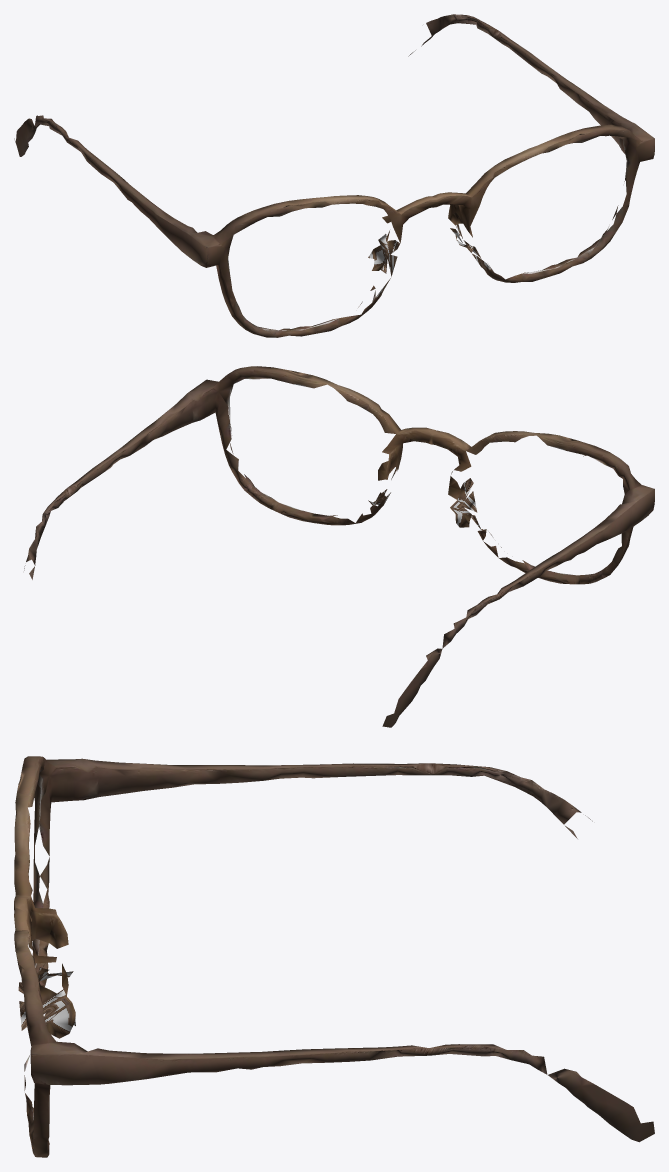
Rendered from head_accessory__0_064-.glb.
3 views of the same model, one above another, from view 1: azimuth 30°, elevation 25°; view 2: azimuth 150°, elevation 25°; view 3: azimuth 270°, elevation 25° (orthographic). The views are drawn at different scales.
Parts seen in each view (by area): view 1: geometry_0_064; view 2: geometry_0_064; view 3: geometry_0_064.
Boxes of the visible parts, x1,y1,x2,y2 form: geometry_0_064: (14,14,654,337); geometry_0_064: (24,366,654,727); geometry_0_064: (14,756,654,1157).
Bounding box in the file's own units: 0.7988 × 0.2386 × 0.733.
Materials: 1 (1 with a texture image).
